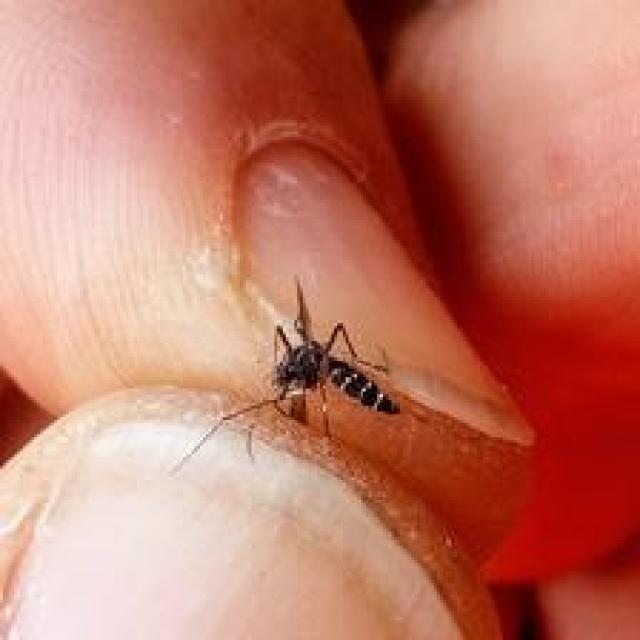Aedes albopictus: (167, 274, 402, 477)
